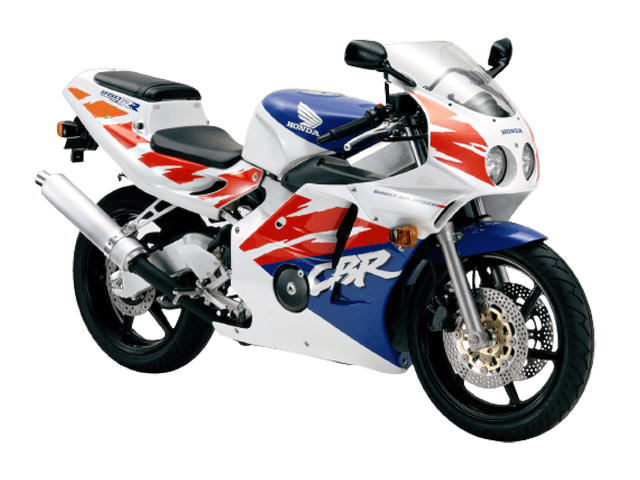motorbike: (34, 37, 595, 442)
